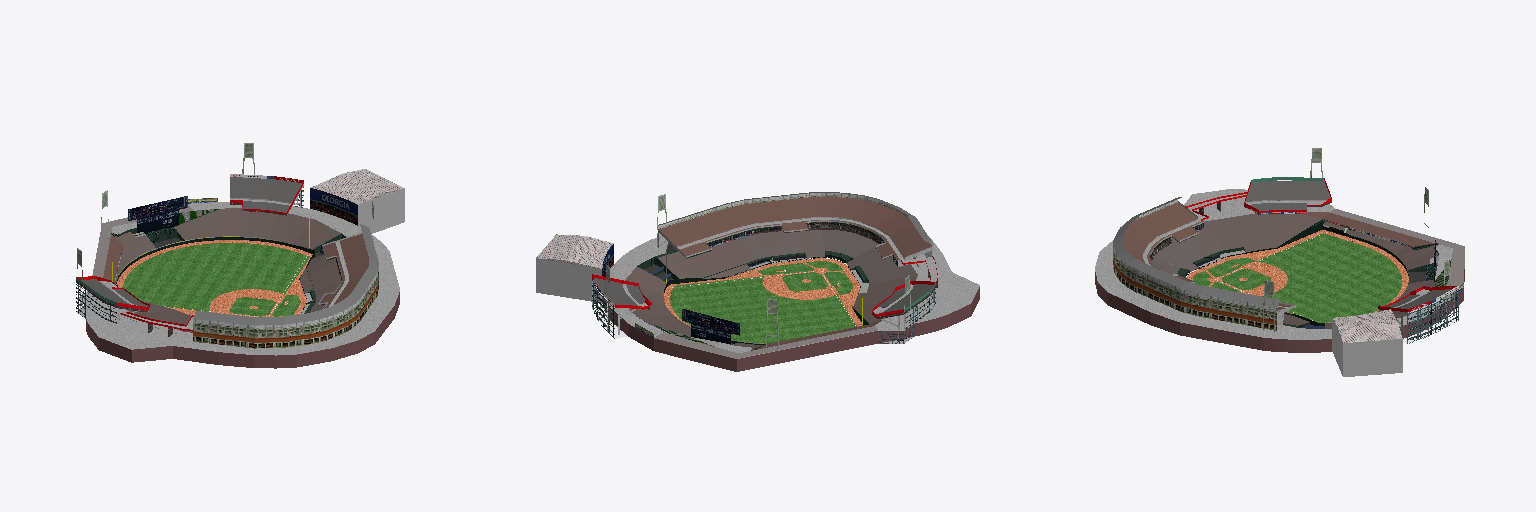
The picture shows the model from 3 angles: view 1: azimuth 30°, elevation 25°; view 2: azimuth 150°, elevation 25°; view 3: azimuth 270°, elevation 25°; orthographic projection.
Parts seen in each view (by area): view 1: Mazda_Zoom_Zoom_Stadium_Main-Material9, Mazda_Zoom_Zoom_Stadium_Main-Material6, Mazda_Zoom_Zoom_Stadium_Main-seating_attendance3_red, Mazda_Zoom_Zoom_Stadium_Main-mazda1, Mazda_Zoom_Zoom_Stadium_Main-04, Mazda_Zoom_Zoom_Stadium_Main-seating_attendance3_grey, Mazda_Zoom_Zoom_Stadium_Main-Groundcover_Sand_Smooth2, Mazda_Zoom_Zoom_Stadium_Main-Metal_Corrugated_Shiny1, Mazda_Zoom_Zoom_Stadium_Main-seating_attendance2_red, Mazda_Zoom_Zoom_Stadium_Main-Roofing_Shingles_Multi, Mazda_Zoom_Zoom_Stadium_Main-Metal_Corrugated_Shiny, Mazda_Zoom_Zoom_Stadium_Main-Concrete_Block_Layers (+6 smaller); view 2: Mazda_Zoom_Zoom_Stadium_Main-Material9, Mazda_Zoom_Zoom_Stadium_Main-seating_attendance2_red, Mazda_Zoom_Zoom_Stadium_Main-Material6, Mazda_Zoom_Zoom_Stadium_Main-seating_attendance3_red, Mazda_Zoom_Zoom_Stadium_Main-04, Mazda_Zoom_Zoom_Stadium_Main-seating_attendance4_red, Mazda_Zoom_Zoom_Stadium_Main-Groundcover_Sand_Smooth2, Mazda_Zoom_Zoom_Stadium_Main-Metal_Corrugated_Shiny, Mazda_Zoom_Zoom_Stadium_Main-Roofing_Shingles_Multi, Mazda_Zoom_Zoom_Stadium_Main-seating_attendance3_grey, Mazda_Zoom_Zoom_Stadium_Main-Concrete_Block_Layers, Mazda_Zoom_Zoom_Stadium_Main-mazda1 (+6 smaller); view 3: Mazda_Zoom_Zoom_Stadium_Main-Material9, Mazda_Zoom_Zoom_Stadium_Main-Material6, Mazda_Zoom_Zoom_Stadium_Main-seating_attendance3_red, Mazda_Zoom_Zoom_Stadium_Main-mazda1, Mazda_Zoom_Zoom_Stadium_Main-04, Mazda_Zoom_Zoom_Stadium_Main-seating_attendance2_red, Mazda_Zoom_Zoom_Stadium_Main-Metal_Corrugated_Shiny, Mazda_Zoom_Zoom_Stadium_Main-seating_attendance3_grey, Mazda_Zoom_Zoom_Stadium_Main-Groundcover_Sand_Smooth2, Mazda_Zoom_Zoom_Stadium_Main-Metal_Corrugated_Shiny1, Mazda_Zoom_Zoom_Stadium_Main-seating_attendance4_red, Mazda_Zoom_Zoom_Stadium_Main-Roofing_Shingles_Multi (+5 smaller).
Boxes of the visible parts, box(x1,y1,x2,y2) form: Mazda_Zoom_Zoom_Stadium_Main-Material9: box(122, 243, 309, 316); Mazda_Zoom_Zoom_Stadium_Main-Material6: box(77, 199, 399, 355); Mazda_Zoom_Zoom_Stadium_Main-seating_attendance3_red: box(112, 208, 340, 331); Mazda_Zoom_Zoom_Stadium_Main-mazda1: box(193, 267, 378, 348); Mazda_Zoom_Zoom_Stadium_Main-04: box(86, 292, 399, 368); Mazda_Zoom_Zoom_Stadium_Main-seating_attendance3_grey: box(81, 177, 301, 306); Mazda_Zoom_Zoom_Stadium_Main-Groundcover_Sand_Smooth2: box(116, 240, 312, 316); Mazda_Zoom_Zoom_Stadium_Main-Metal_Corrugated_Shiny1: box(193, 224, 378, 324); Mazda_Zoom_Zoom_Stadium_Main-seating_attendance2_red: box(103, 234, 368, 308); Mazda_Zoom_Zoom_Stadium_Main-Roofing_Shingles_Multi: box(311, 169, 403, 204); Mazda_Zoom_Zoom_Stadium_Main-Metal_Corrugated_Shiny: box(358, 188, 404, 233); Mazda_Zoom_Zoom_Stadium_Main-Concrete_Block_Layers: box(92, 205, 193, 277); Mazda_Zoom_Zoom_Stadium_Main-Material9: box(670, 261, 856, 343); Mazda_Zoom_Zoom_Stadium_Main-seating_attendance2_red: box(659, 197, 931, 349); Mazda_Zoom_Zoom_Stadium_Main-Material6: box(609, 218, 979, 352); Mazda_Zoom_Zoom_Stadium_Main-seating_attendance3_red: box(625, 239, 917, 350); Mazda_Zoom_Zoom_Stadium_Main-04: box(602, 287, 979, 371); Mazda_Zoom_Zoom_Stadium_Main-seating_attendance4_red: box(703, 229, 917, 283); Mazda_Zoom_Zoom_Stadium_Main-Groundcover_Sand_Smooth2: box(664, 258, 861, 326); Mazda_Zoom_Zoom_Stadium_Main-Metal_Corrugated_Shiny: box(536, 259, 601, 301); Mazda_Zoom_Zoom_Stadium_Main-Roofing_Shingles_Multi: box(536, 234, 613, 268); Mazda_Zoom_Zoom_Stadium_Main-seating_attendance3_grey: box(594, 278, 933, 312); Mazda_Zoom_Zoom_Stadium_Main-Concrete_Block_Layers: box(655, 326, 877, 358); Mazda_Zoom_Zoom_Stadium_Main-mazda1: box(658, 193, 932, 245); Mazda_Zoom_Zoom_Stadium_Main-Material9: box(1193, 233, 1401, 322); Mazda_Zoom_Zoom_Stadium_Main-Material6: box(1095, 189, 1455, 339); Mazda_Zoom_Zoom_Stadium_Main-seating_attendance3_red: box(1204, 213, 1438, 328); Mazda_Zoom_Zoom_Stadium_Main-mazda1: box(1113, 199, 1276, 330); Mazda_Zoom_Zoom_Stadium_Main-04: box(1095, 269, 1464, 352); Mazda_Zoom_Zoom_Stadium_Main-seating_attendance2_red: box(1123, 203, 1434, 310); Mazda_Zoom_Zoom_Stadium_Main-Metal_Corrugated_Shiny: box(1332, 318, 1402, 376); Mazda_Zoom_Zoom_Stadium_Main-seating_attendance3_grey: box(1245, 181, 1451, 308); Mazda_Zoom_Zoom_Stadium_Main-Groundcover_Sand_Smooth2: box(1186, 230, 1408, 313); Mazda_Zoom_Zoom_Stadium_Main-Metal_Corrugated_Shiny1: box(1113, 197, 1280, 307); Mazda_Zoom_Zoom_Stadium_Main-seating_attendance4_red: box(1152, 224, 1285, 312); Mazda_Zoom_Zoom_Stadium_Main-Roofing_Shingles_Multi: box(1333, 309, 1402, 342).
Bounding box in the file's own units: 261 × 46.27 × 232.
68 materials, 47 textured.